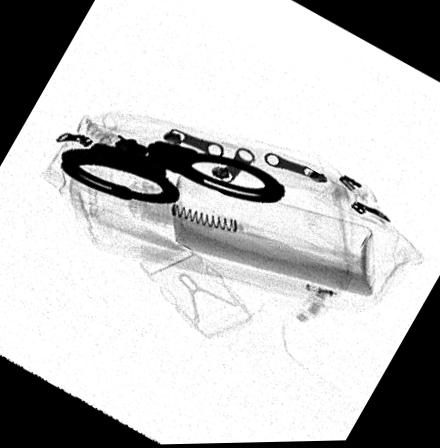HandCuffs: (58, 134, 285, 205)
